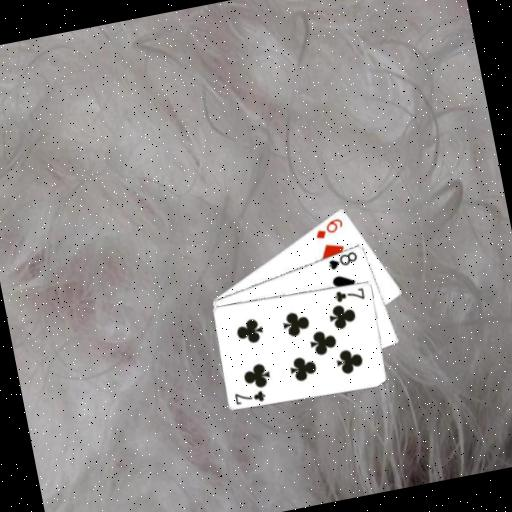6D: (310, 214, 347, 242)
7C: (331, 283, 368, 306), (231, 385, 268, 408)
8S: (324, 247, 361, 272)
